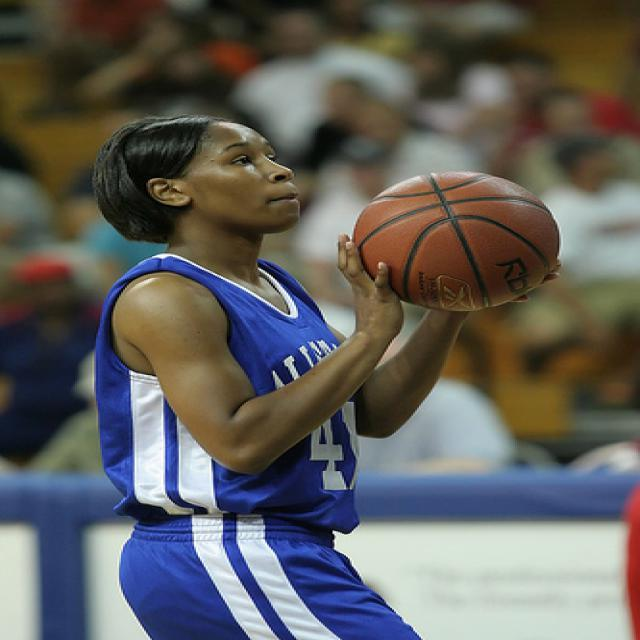basketball: (348, 168, 558, 312)
